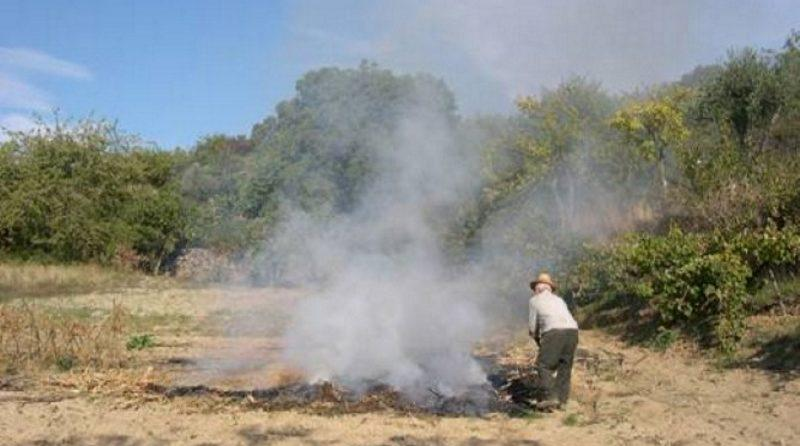smoke: (289, 224, 454, 387)
